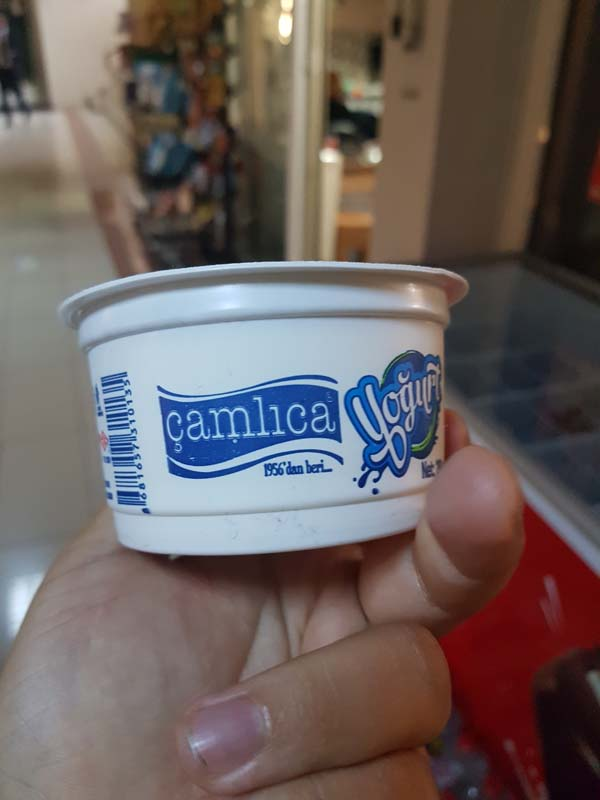camlicayogurt: (47, 257, 490, 558)
